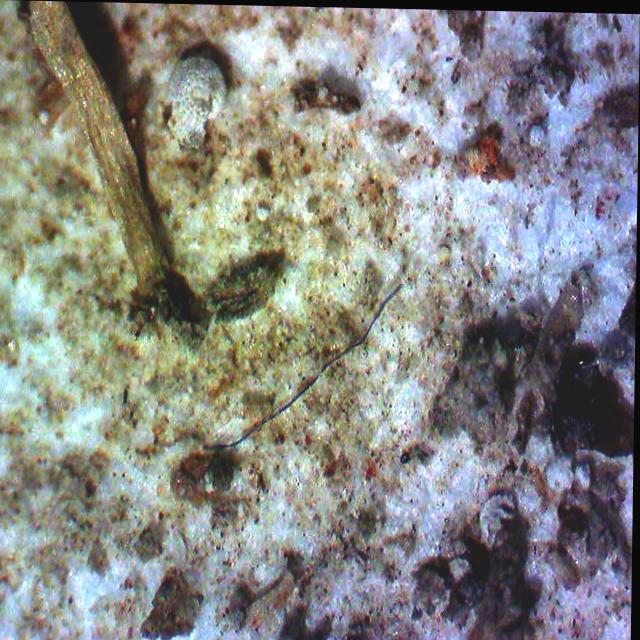microplastic: (203, 279, 415, 466)
